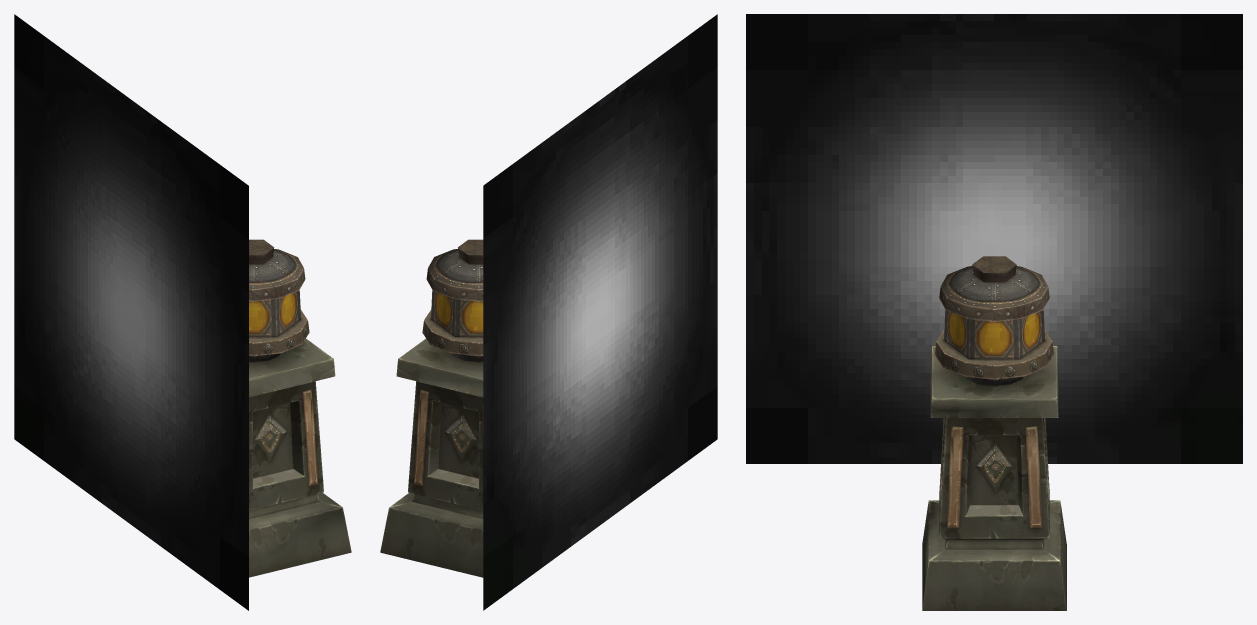
3 views of the same model, side by side, from view 1: azimuth 30°, elevation 25°; view 2: azimuth 150°, elevation 25°; view 3: azimuth 270°, elevation 25° (orthographic). The views are drawn at different scales.
Size of the model in its own units: 2.87 by 6.96 by 6.26.
Materials: 2 (2 with a texture image).
